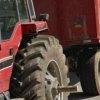Tractor: (3, 7, 81, 100)
